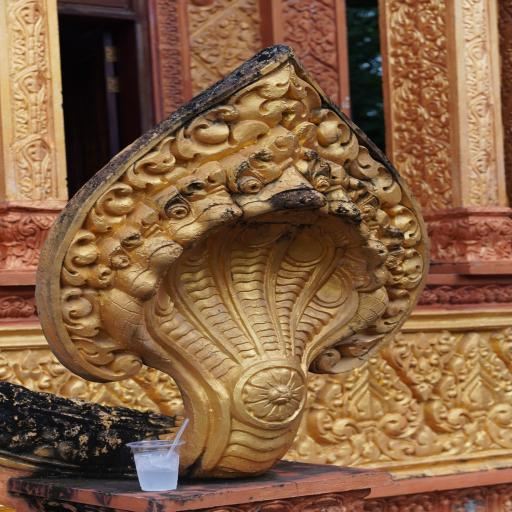la: (4, 0, 53, 67), (12, 132, 60, 200), (8, 66, 51, 138)
lua: (311, 348, 428, 460), (426, 333, 512, 454), (375, 331, 462, 399)
ran: (0, 33, 439, 494)
